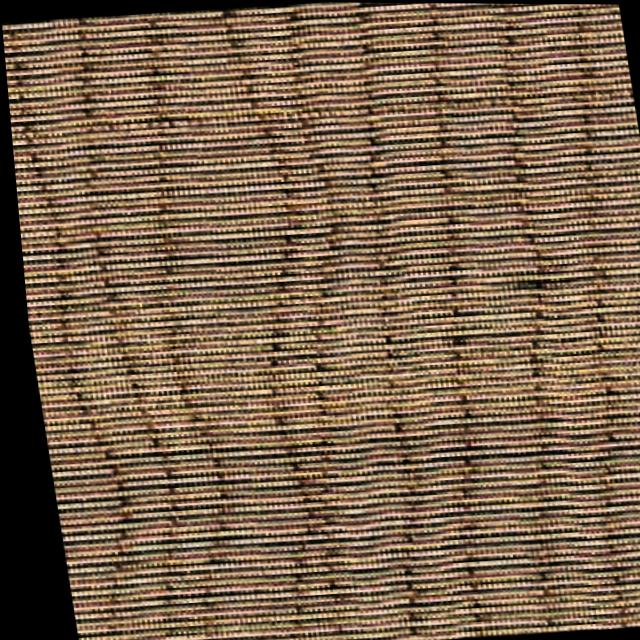Stitch: (224, 384, 363, 640)
